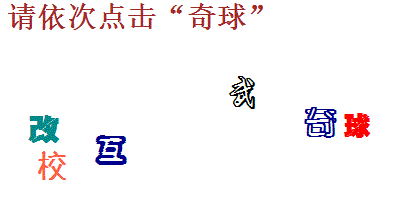text: (303, 105, 337, 140), (95, 134, 128, 166), (228, 74, 257, 110), (28, 114, 60, 145), (36, 151, 68, 182), (342, 112, 372, 141)
